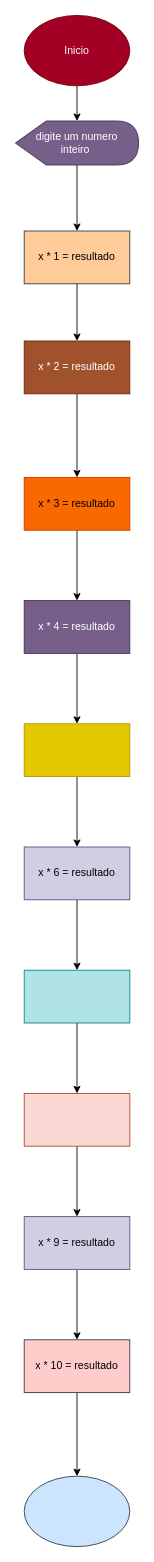
The diagram is 154 pixels wide and 1562 high, and some of its shapes have lost their labels. The shapes that lost their labels are listed below. From the top down, each one's box as (x1, y1, x2, y2) in pixels, then its label:
(23, 723, 130, 777): x * 5 = resultado
(23, 969, 130, 1023): x * 7 = resultado
(23, 1093, 130, 1146): x * 8 = resultado
(23, 1475, 130, 1547): Fim
